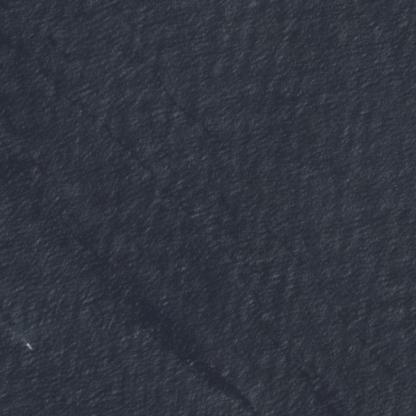ship: (23, 341, 33, 350)
